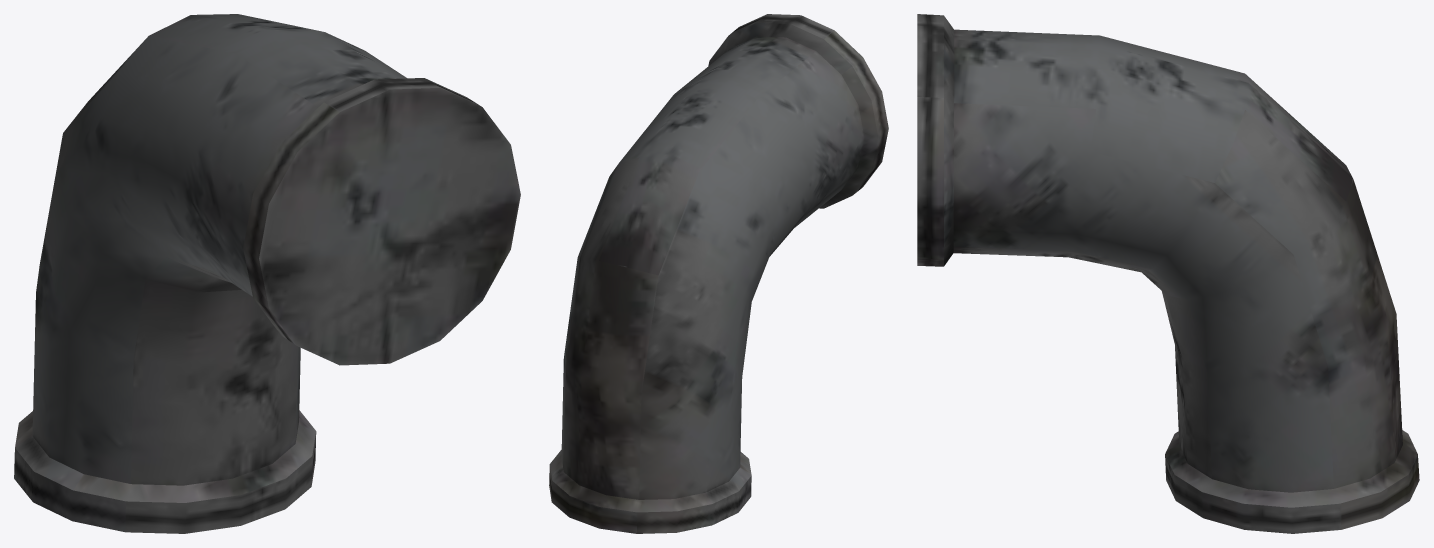
Rendered from duct-pipe-elbow--2.gltf.
3 views of the same model, side by side, from view 1: azimuth 30°, elevation 25°; view 2: azimuth 150°, elevation 25°; view 3: azimuth 270°, elevation 25° (orthographic). The views are drawn at different scales.
Visible parts, largest first — view 1: Cylinder.113; view 2: Cylinder.113; view 3: Cylinder.113.
Part boxes in pixels (x1,y1,x2,y2): Cylinder.113: [14, 14, 520, 533]; Cylinder.113: [549, 14, 888, 533]; Cylinder.113: [917, 14, 1419, 533].
Bounding box in the file's own units: 1.26 × 2.5 × 2.5.
1 material, 1 textured.
